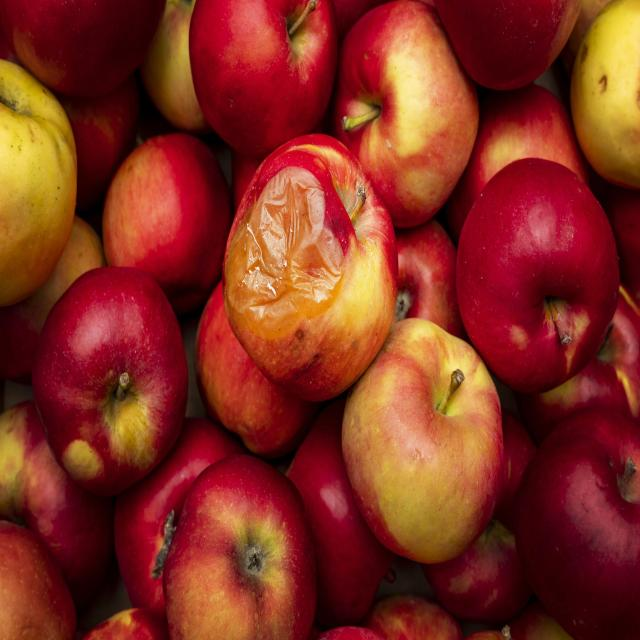manzana: (19, 251, 190, 519)
